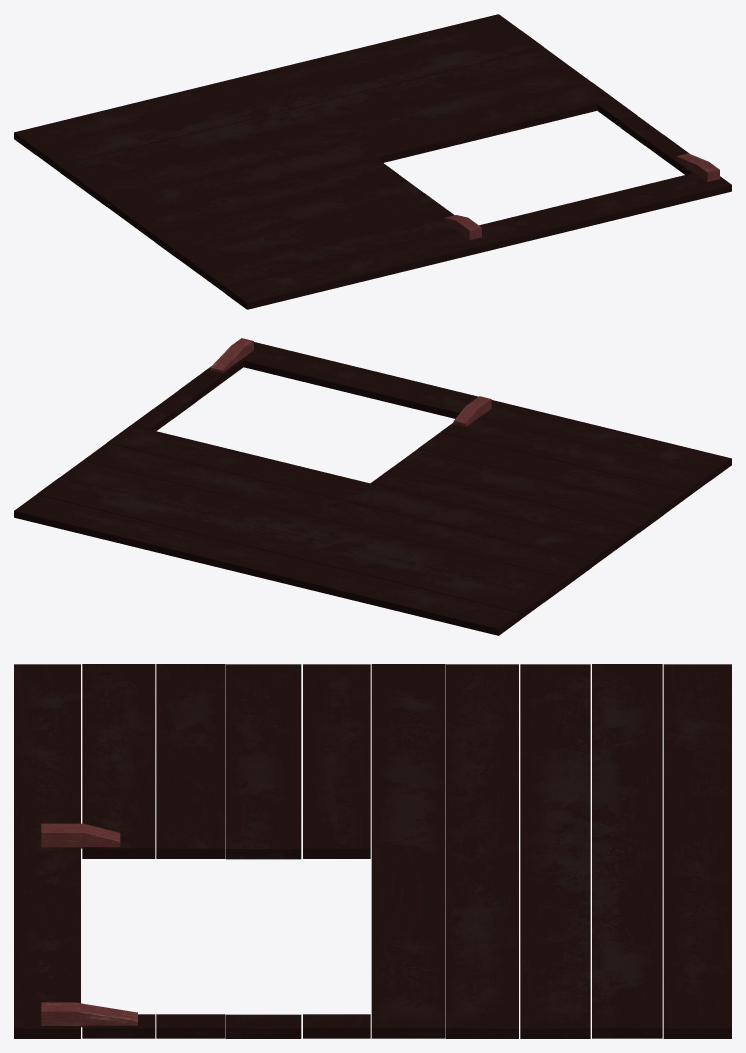
The model's file is SM_Floor02a.fbx.
3 views of the same model, one above another, from view 1: azimuth 30°, elevation 25°; view 2: azimuth 150°, elevation 25°; view 3: azimuth 270°, elevation 25° (orthographic). The views are drawn at different scales.
Visible parts, largest first — view 1: SM_Floor02a; view 2: SM_Floor02a; view 3: SM_Floor02a.
Part boxes in pixels (box(x1,y1,x2,y2)): SM_Floor02a: box(14, 14, 731, 309); SM_Floor02a: box(14, 338, 731, 635); SM_Floor02a: box(14, 664, 731, 1038).
Bounding box in the file's own units: 300 × 250 × 9.57.
2 materials, 2 textured.
